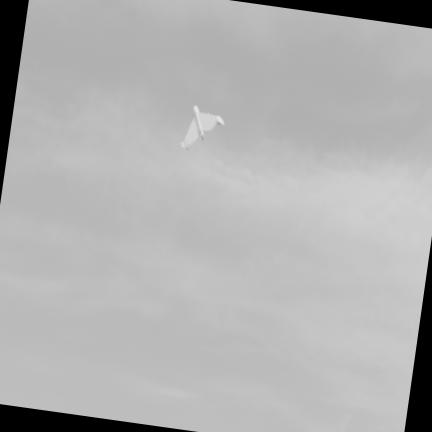Shahed: (181, 106, 223, 148)
